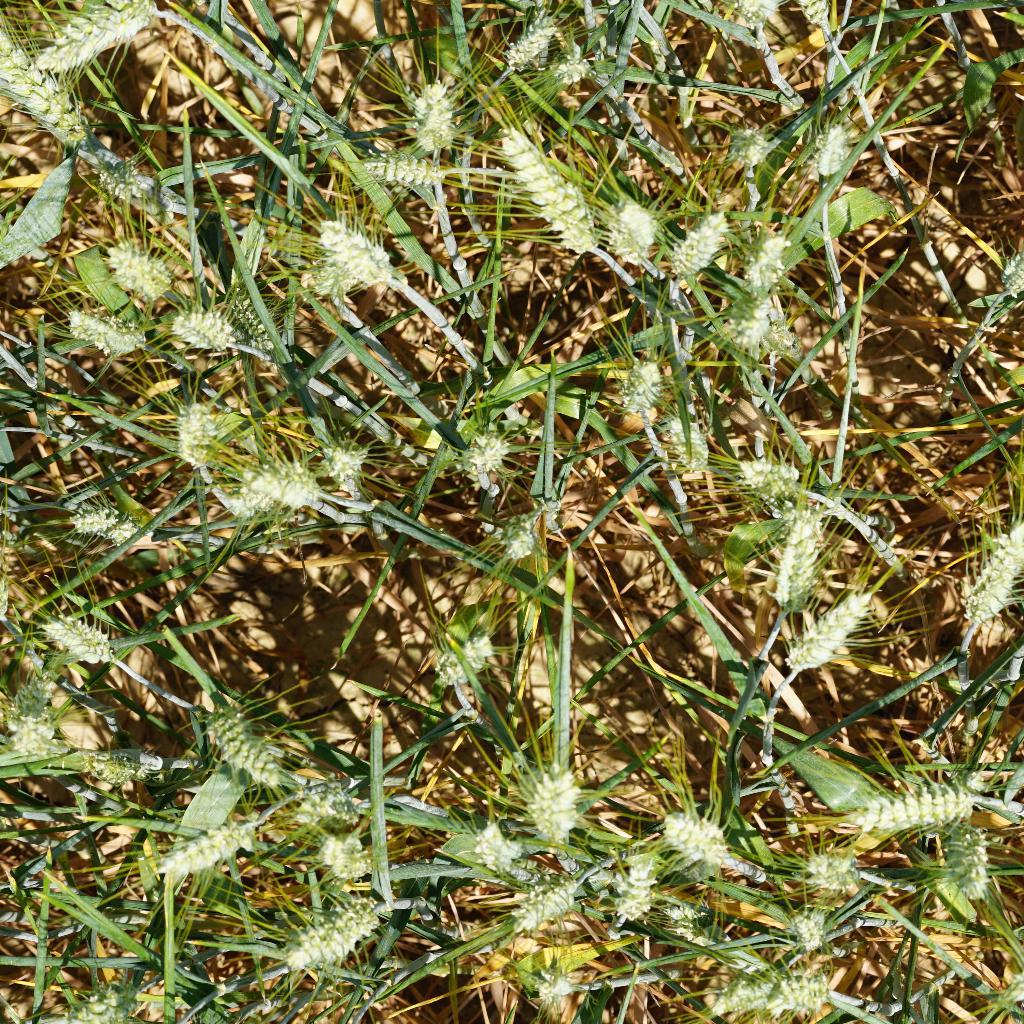0-0: (482, 120, 610, 260), (0, 33, 109, 157), (776, 594, 897, 684), (34, 0, 172, 78), (185, 697, 301, 789), (836, 768, 979, 837), (127, 814, 272, 877), (281, 904, 393, 982), (949, 520, 1024, 626), (752, 504, 829, 605), (725, 444, 836, 509), (302, 216, 400, 288), (238, 456, 337, 523), (348, 144, 445, 212), (727, 231, 803, 313), (389, 64, 463, 148), (515, 751, 586, 838), (602, 185, 675, 269), (33, 602, 124, 669), (650, 800, 729, 877), (664, 204, 728, 298), (718, 291, 789, 372), (222, 273, 286, 359), (451, 413, 516, 497), (167, 301, 251, 366), (714, 108, 787, 182), (169, 389, 232, 473), (6, 669, 66, 755), (62, 492, 152, 549), (606, 346, 672, 423), (418, 624, 493, 690), (60, 301, 148, 357), (799, 118, 866, 189), (98, 232, 176, 292), (466, 811, 535, 878), (499, 6, 562, 79), (594, 851, 664, 916), (484, 499, 555, 563), (802, 840, 869, 907), (73, 742, 161, 793), (97, 161, 167, 223), (763, 970, 849, 1019), (290, 260, 365, 316), (504, 870, 578, 926), (941, 828, 1000, 896), (311, 828, 381, 885), (652, 894, 729, 942), (290, 776, 365, 825), (709, 970, 774, 1024), (658, 410, 714, 471), (776, 896, 838, 950), (42, 985, 124, 1024), (317, 426, 367, 488), (223, 483, 285, 526), (549, 37, 598, 90), (532, 957, 578, 1010), (989, 236, 1024, 298)
